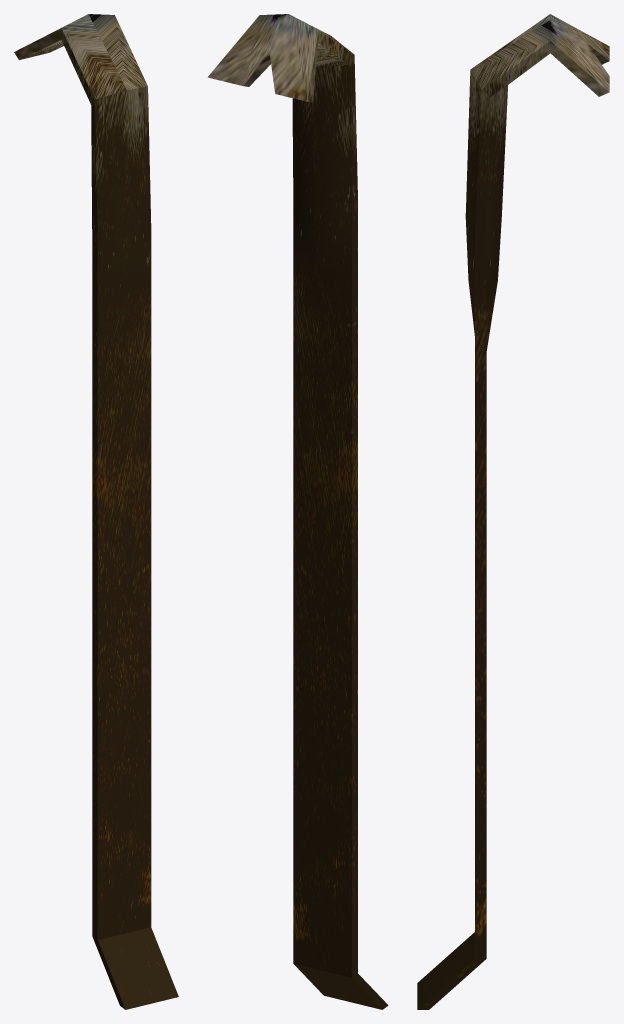
Rendered from crowbar.fbx.
The picture shows the model from 3 angles, left to right: view 1: azimuth 30°, elevation 25°; view 2: azimuth 150°, elevation 25°; view 3: azimuth 270°, elevation 25°; orthographic projection. The views are drawn at different scales.
Visible parts, largest first — view 1: pCube1; view 2: pCube1; view 3: pCube1.
Boxes of the visible parts, x1,y1,x2,y2 form: pCube1: (14,14,178,1009); pCube1: (207,14,388,1009); pCube1: (417,14,609,1009).
Size of the model in its own units: 1.71 by 16.88 by 3.01.
